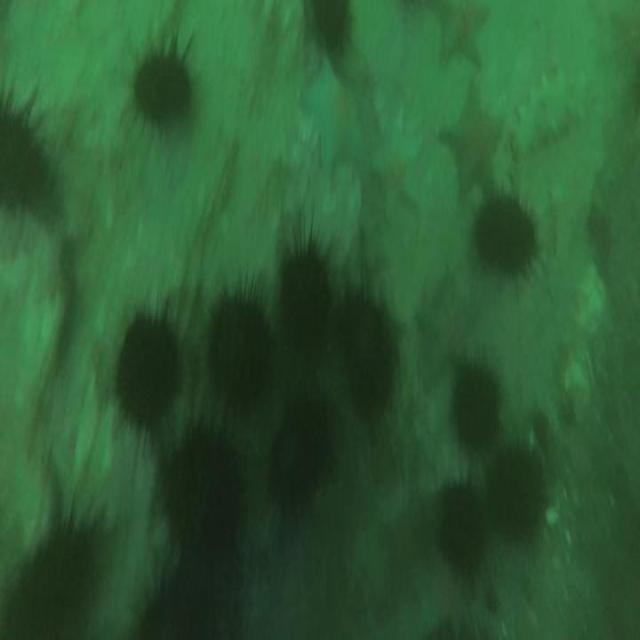echinus: (0, 529, 93, 639), (162, 430, 244, 553), (114, 314, 181, 426), (209, 300, 275, 412), (334, 289, 393, 414), (274, 397, 333, 499), (278, 245, 332, 346), (494, 442, 548, 540), (473, 201, 538, 275), (438, 487, 488, 578), (452, 363, 502, 448), (1, 112, 42, 214), (132, 54, 192, 123), (137, 586, 212, 640), (312, 0, 348, 44)
holothurian: (517, 63, 603, 155)
starfish: (301, 60, 367, 179), (439, 82, 503, 198), (413, 270, 481, 379), (372, 104, 426, 214), (428, 0, 489, 68)
